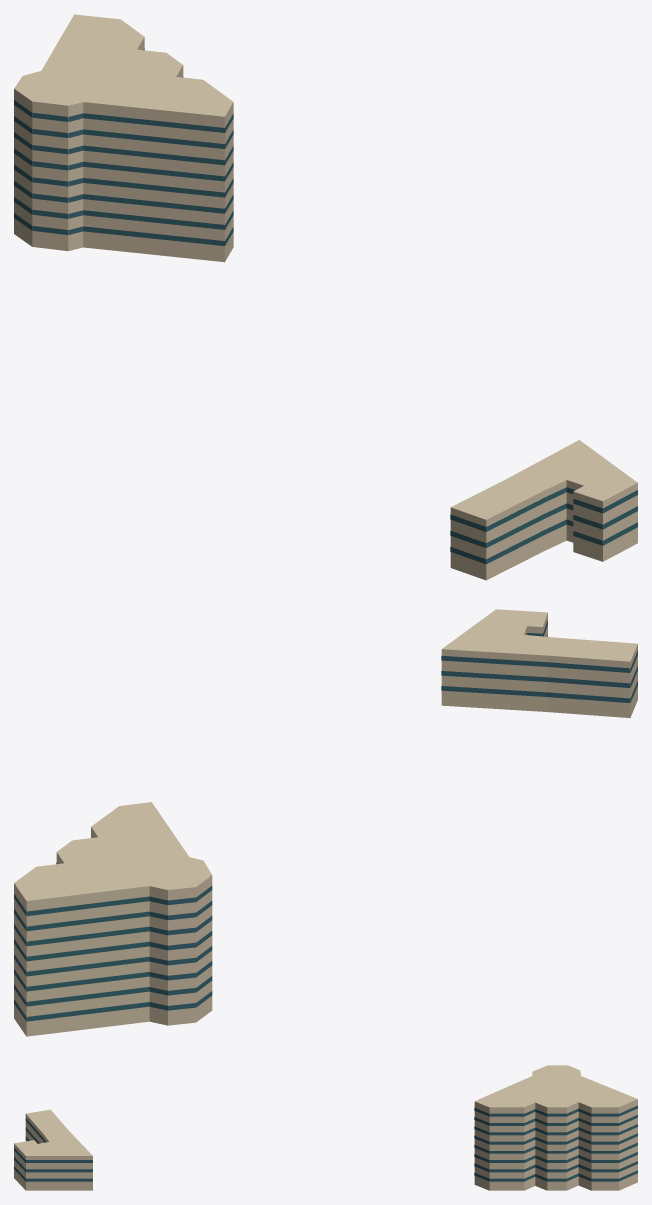
The model's file is city_10_-4.glb.
The picture shows the model from 3 angles, top to bottom: view 1: azimuth 30°, elevation 25°; view 2: azimuth 150°, elevation 25°; view 3: azimuth 270°, elevation 25°; orthographic projection. The views are drawn at different scales.
Parts seen in each view (by area): view 1: city_10_-4; view 2: city_10_-4; view 3: city_10_-4.
Boxes of the visible parts, x1,y1,x2,y2 form: city_10_-4: (14,14,637,580); city_10_-4: (14,609,637,1036); city_10_-4: (14,1065,637,1190).
Bounding box in the file's own units: 42.98 × 36 × 244.
